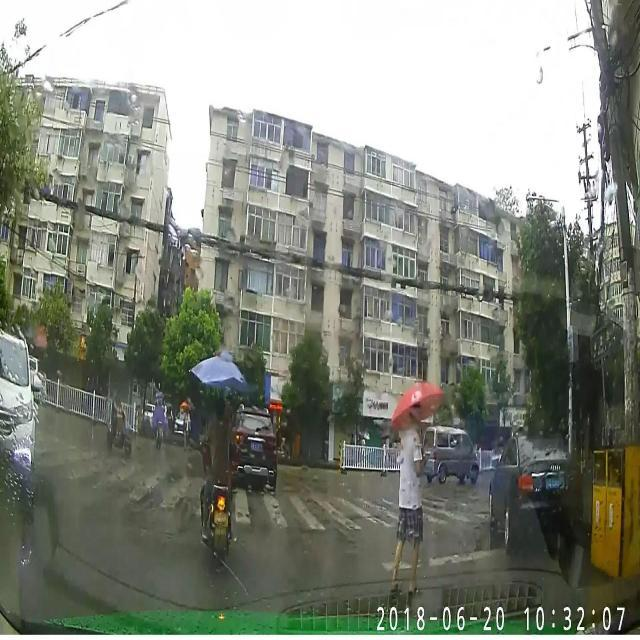car: (490, 430, 570, 548), (0, 330, 36, 500), (230, 402, 276, 489), (422, 424, 480, 484)
